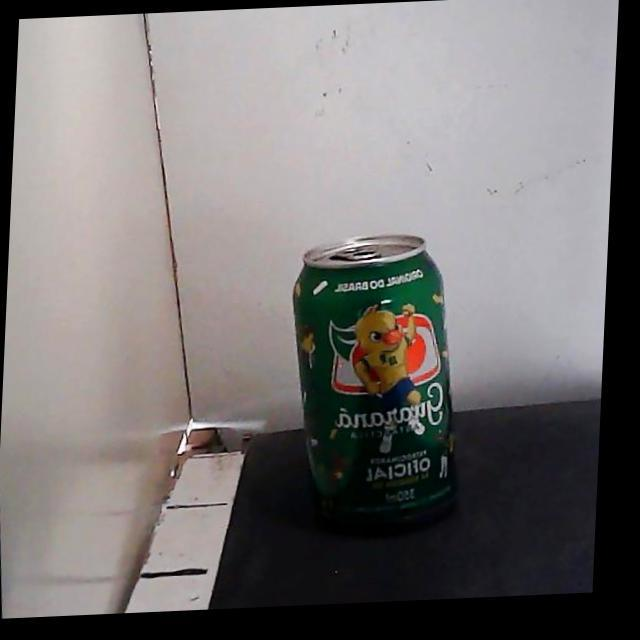metal: (293, 234, 457, 527)
